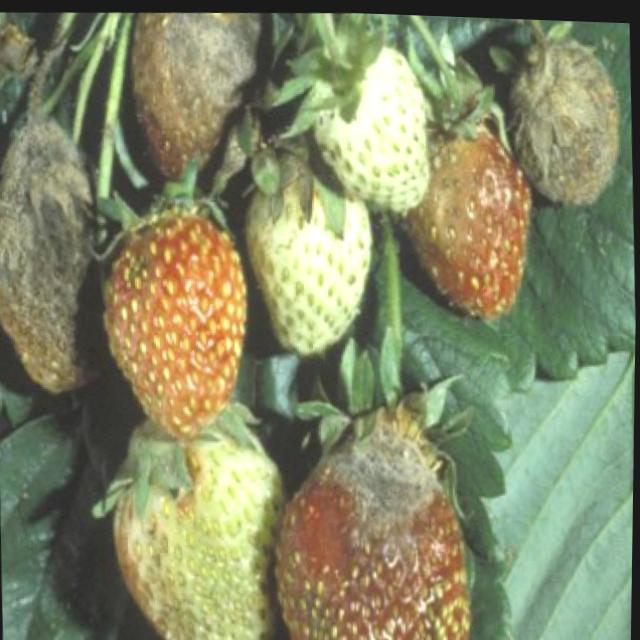Gray Mold: (295, 404, 454, 598), (0, 107, 99, 392), (127, 9, 260, 173), (504, 26, 619, 202)
